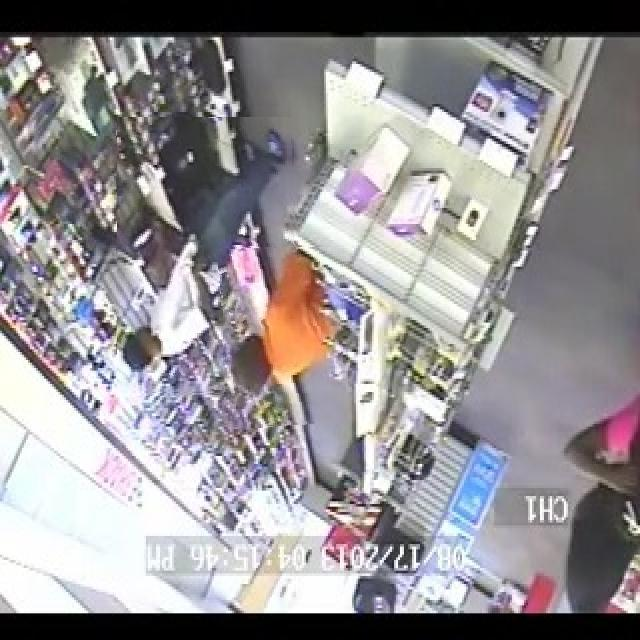normal: (117, 117, 299, 396), (224, 247, 345, 428)
